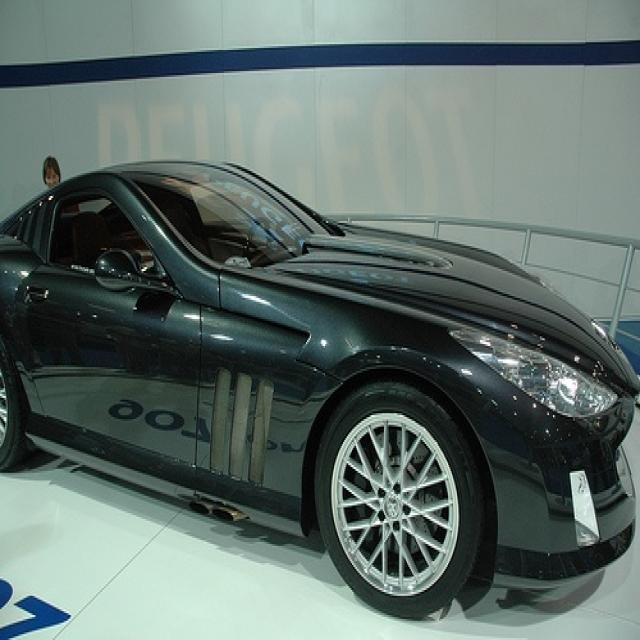car: (1, 158, 639, 620)
